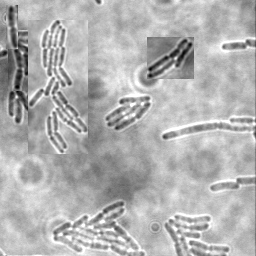Dividing: (161, 123, 255, 142), (6, 5, 18, 49), (221, 41, 248, 52)
Microcolony: (28, 20, 88, 154), (51, 200, 147, 255), (162, 212, 231, 255), (8, 30, 44, 91), (147, 37, 194, 79), (106, 96, 153, 132), (208, 182, 240, 193)
